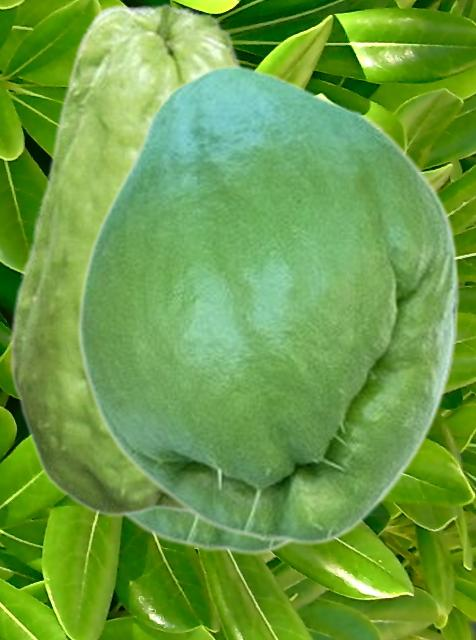sayote: (76, 65, 459, 546), (8, 2, 243, 518), (124, 511, 291, 556)
